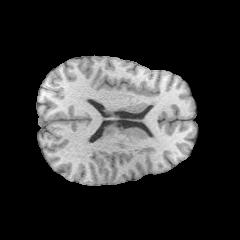glioma: (98, 102, 156, 149)
